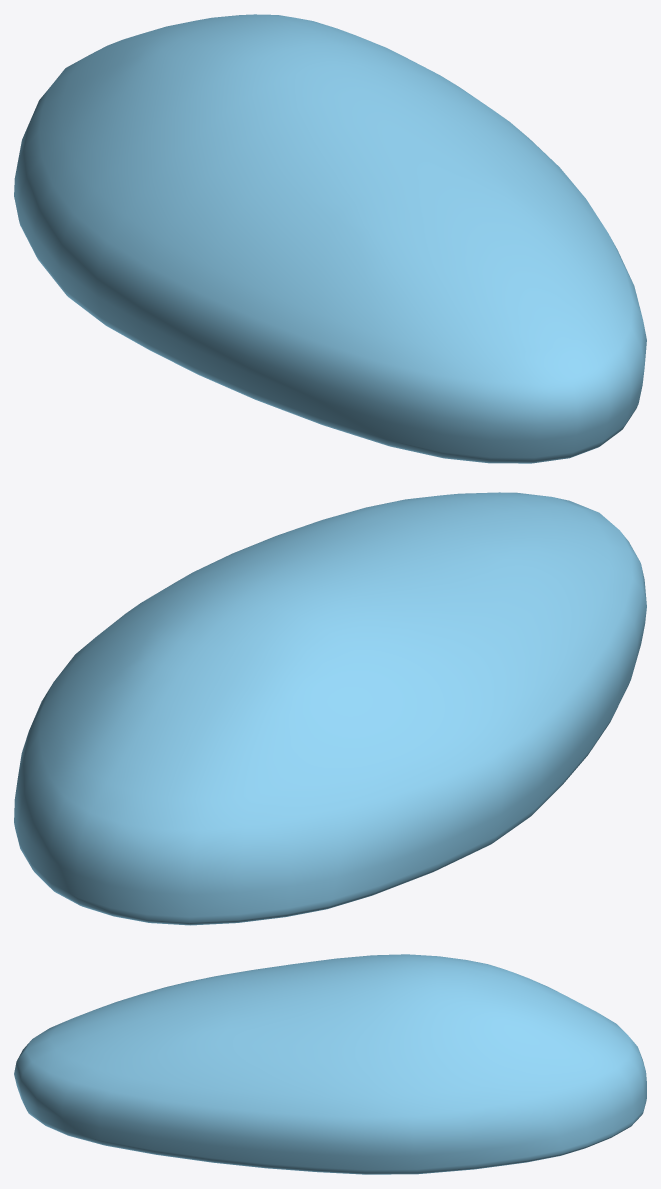
Rendered from SM_20017PedraG.fbx.
3 views of the same model, one above another, from view 1: azimuth 30°, elevation 25°; view 2: azimuth 150°, elevation 25°; view 3: azimuth 270°, elevation 25° (orthographic). The views are drawn at different scales.
Parts seen in each view (by area): view 1: SM_20017PedraG_geo_1; view 2: SM_20017PedraG_geo_1; view 3: SM_20017PedraG_geo_1.
Part boxes in pixels (x1=…): SM_20017PedraG_geo_1: x1=14, y1=14, x2=646, y2=463; SM_20017PedraG_geo_1: x1=14, y1=492, x2=646, y2=925; SM_20017PedraG_geo_1: x1=14, y1=954, x2=646, y2=1174.
Bounding box in the file's own units: 22.16 × 9.7 × 40.45.
